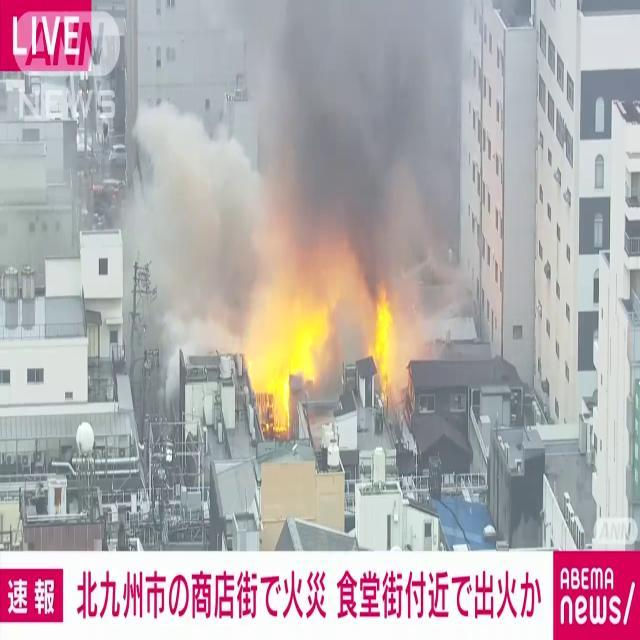Fire: (247, 264, 334, 432), (368, 286, 397, 398)
Smoke: (125, 2, 463, 321)
